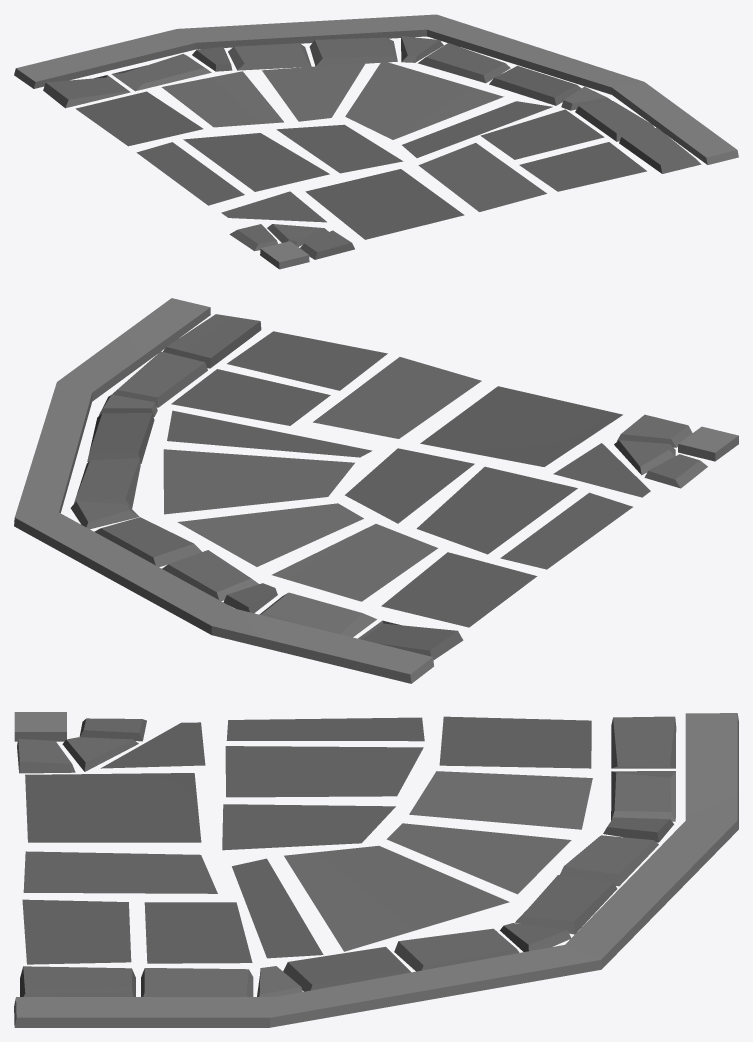
The model's file is Road Cobble Angled.glb.
The picture shows the model from 3 angles, top to bottom: view 1: azimuth 30°, elevation 25°; view 2: azimuth 150°, elevation 25°; view 3: azimuth 270°, elevation 25°; orthographic projection. The views are drawn at different scales.
Visible parts, largest first — view 1: RoadCobbleAngled; view 2: RoadCobbleAngled; view 3: RoadCobbleAngled.
Part boxes in pixels (bbox=[...]): RoadCobbleAngled: bbox=[14, 14, 738, 269]; RoadCobbleAngled: bbox=[14, 298, 738, 683]; RoadCobbleAngled: bbox=[14, 712, 738, 1027].
Size of what is drawn, in the model's own units: 2.01 by 0.0347 by 2.
1 material, 1 textured.
